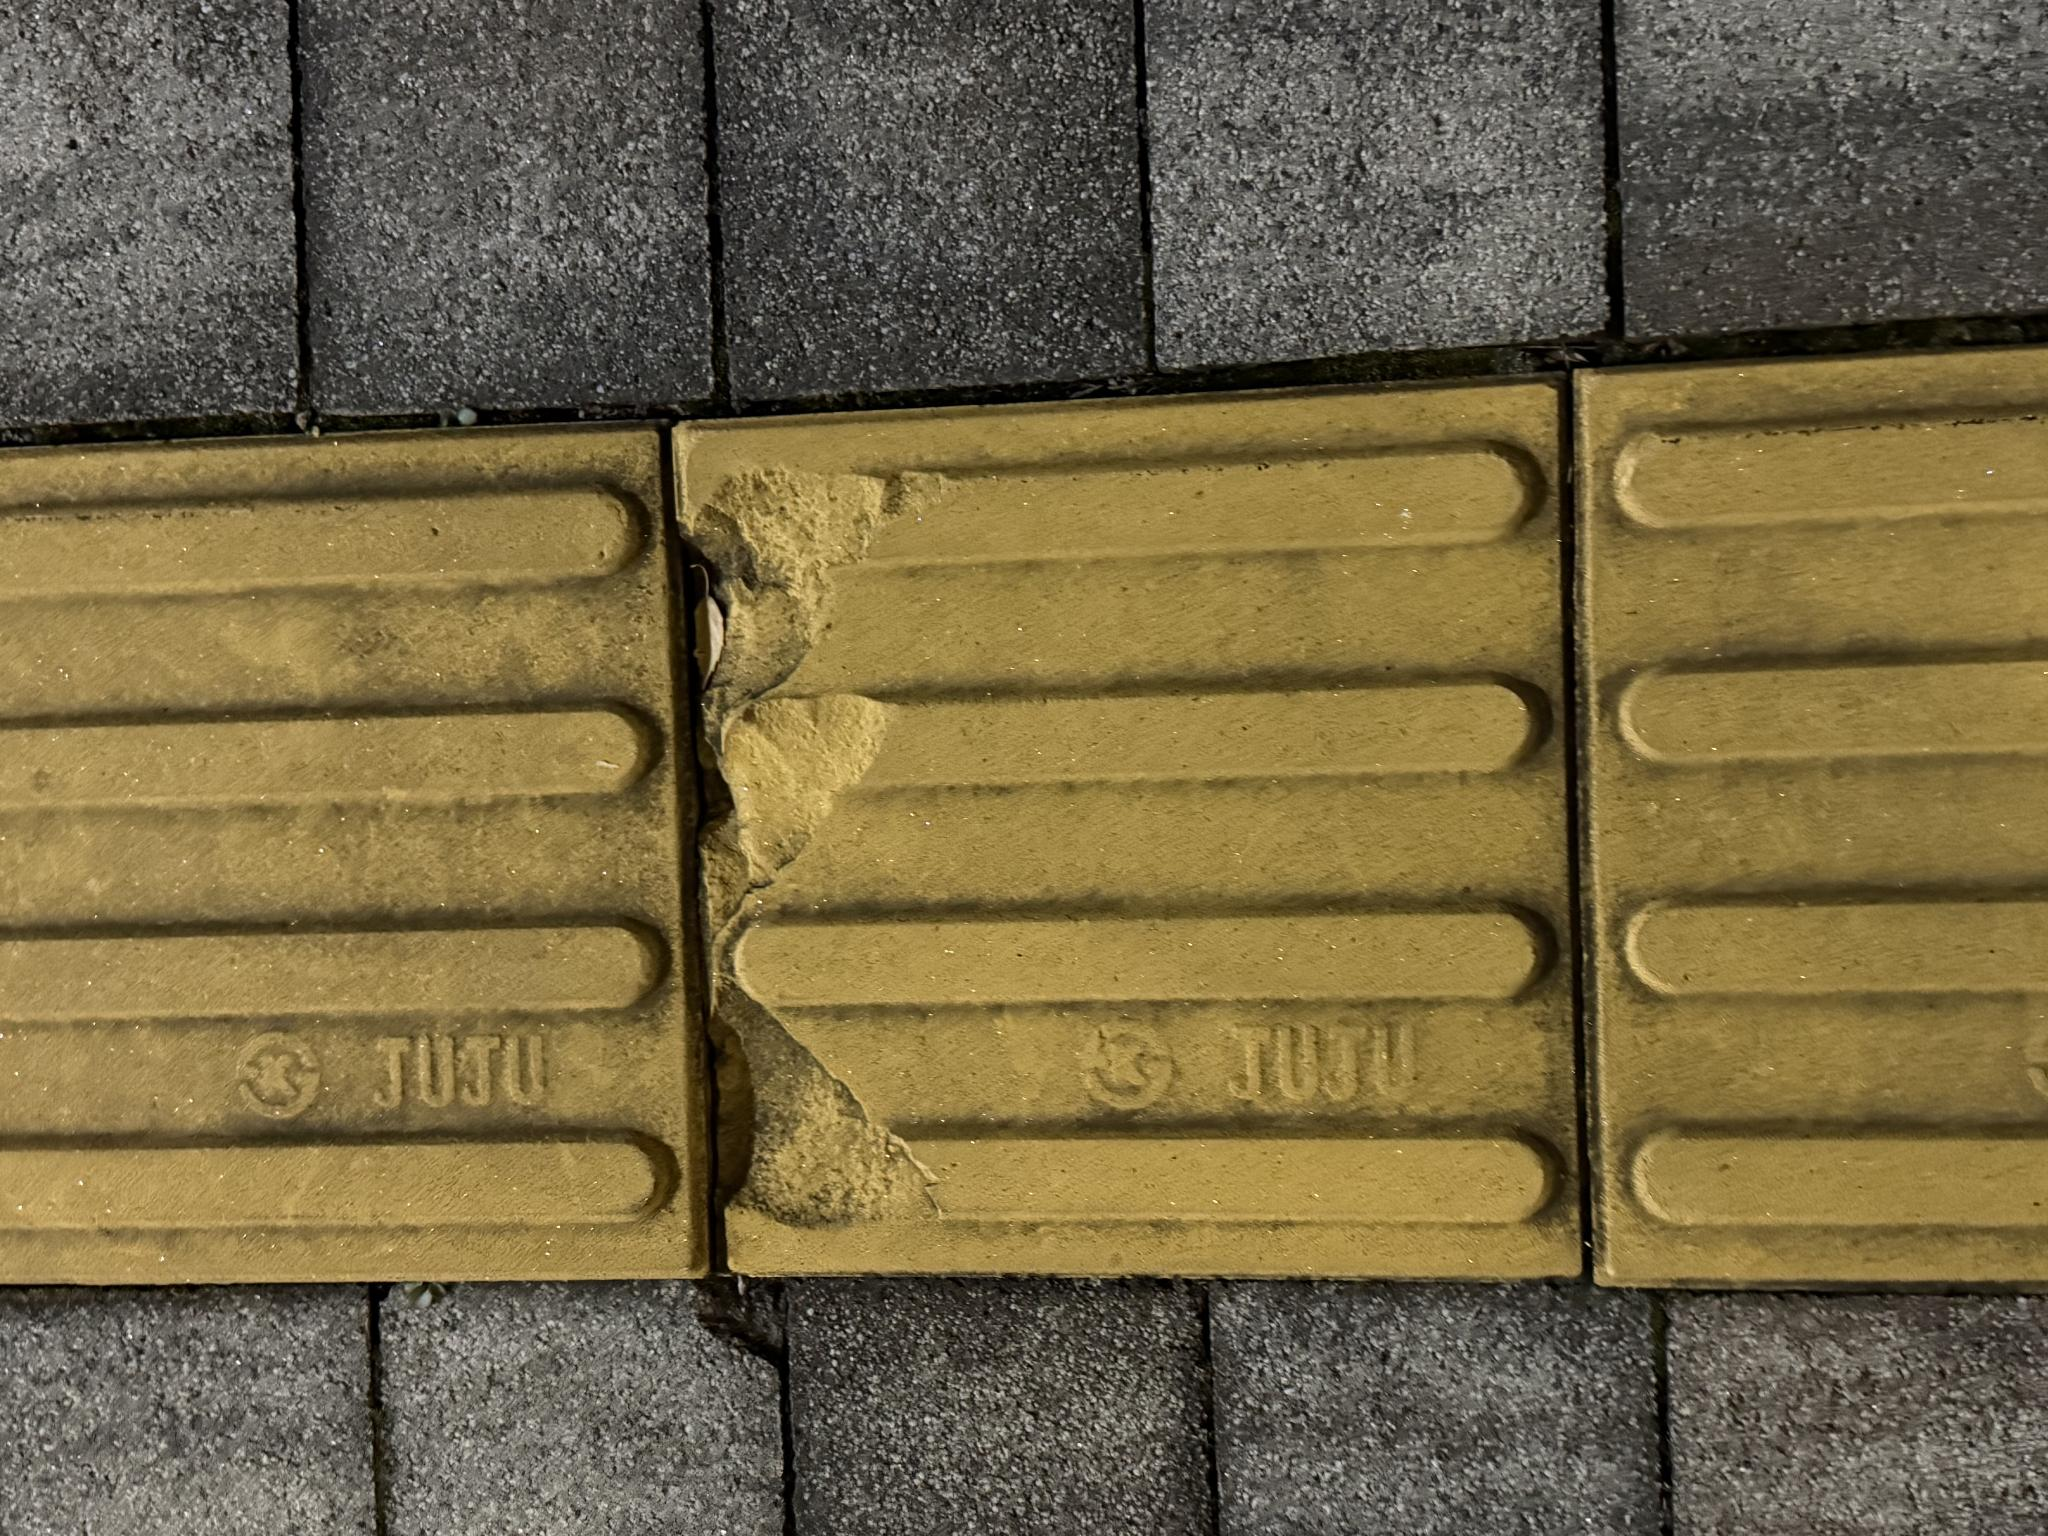Straight block broken: (268, 673, 1153, 1536)
